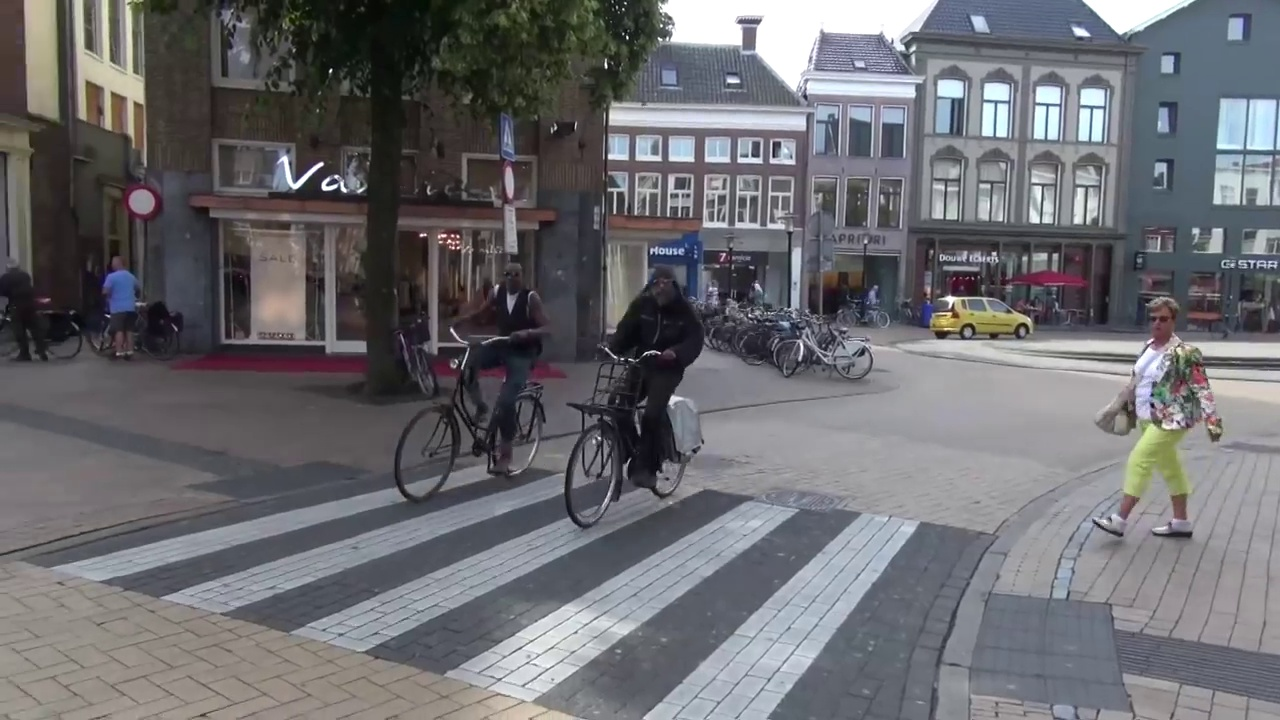cyclist_front: (568, 250, 709, 532), (395, 253, 552, 500)
